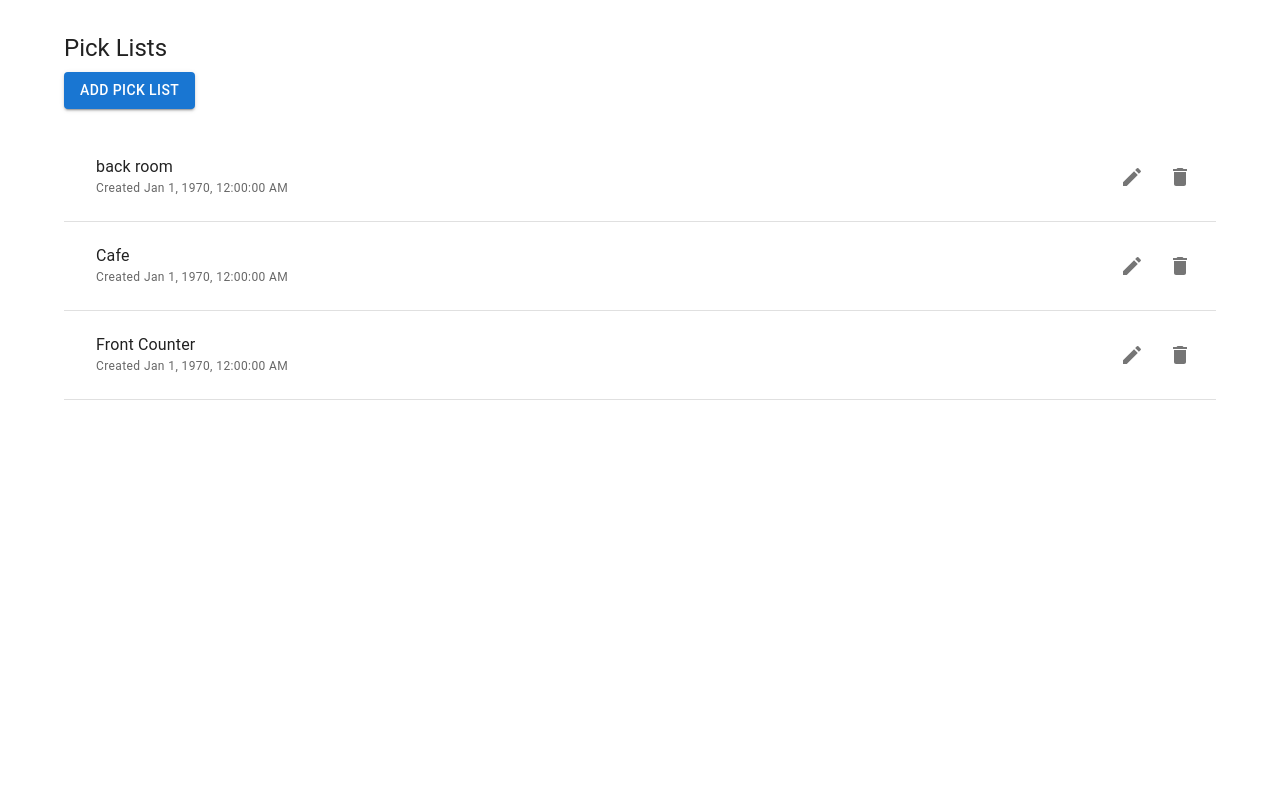
Test case: PickListsScreen sorting › opens the edit dialog and saves changes
Click the button named "edit" in the row of "back room": (1132, 177) [1112,157,1152,197]
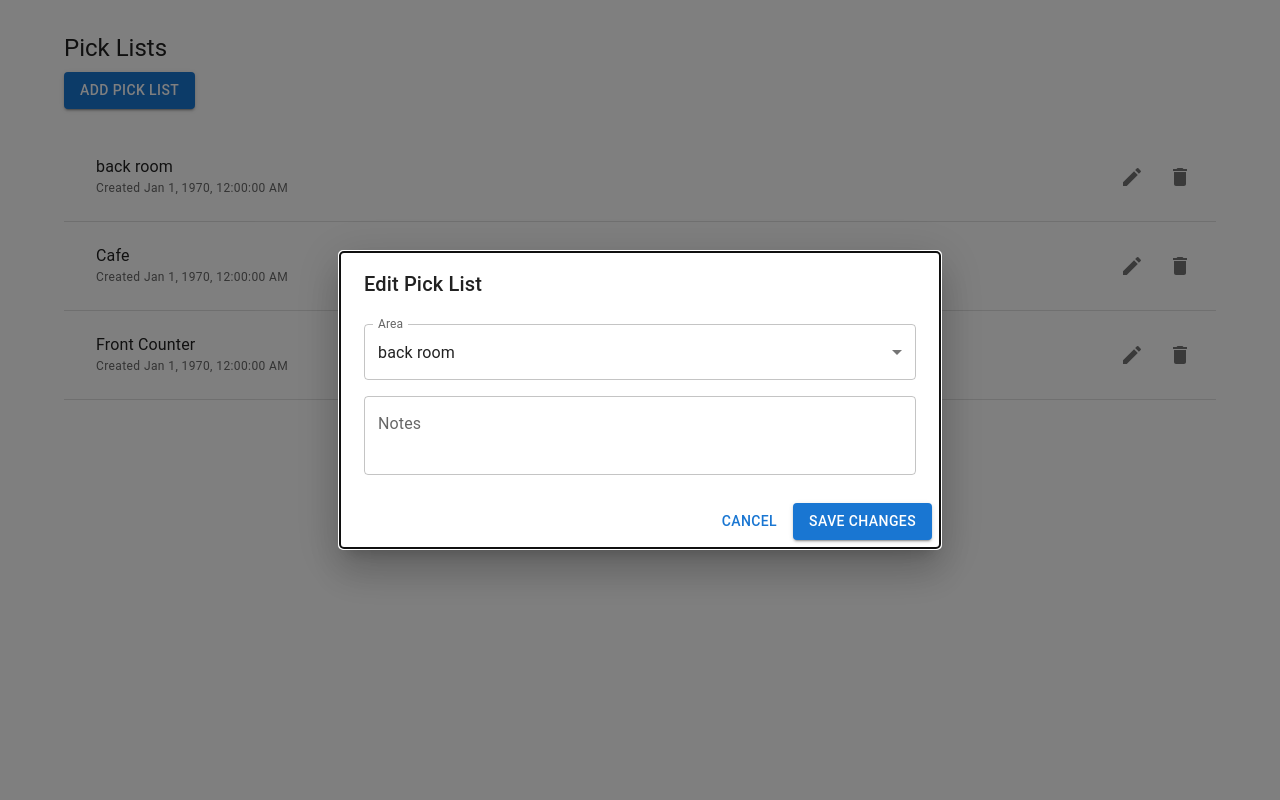
expect the dialog "Edit Pick List Area Notes Cancel Save Changes" is shown: met, box [340,252,940,548]
Select "Cafe" in the dropdown labelled "Area": (640, 352) [364,324,916,380]
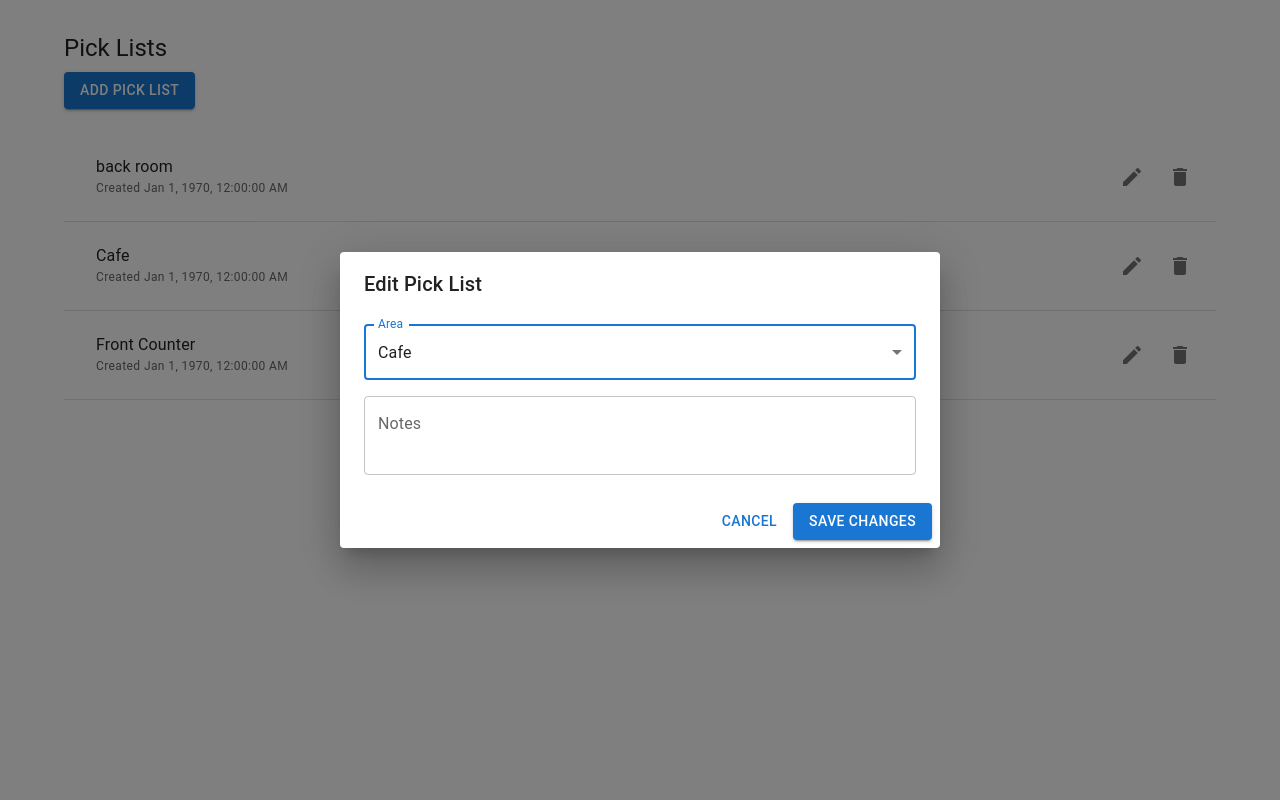
In the text box labelled "Notes": (640, 436) [378,413,902,459], type "Restock quickly"
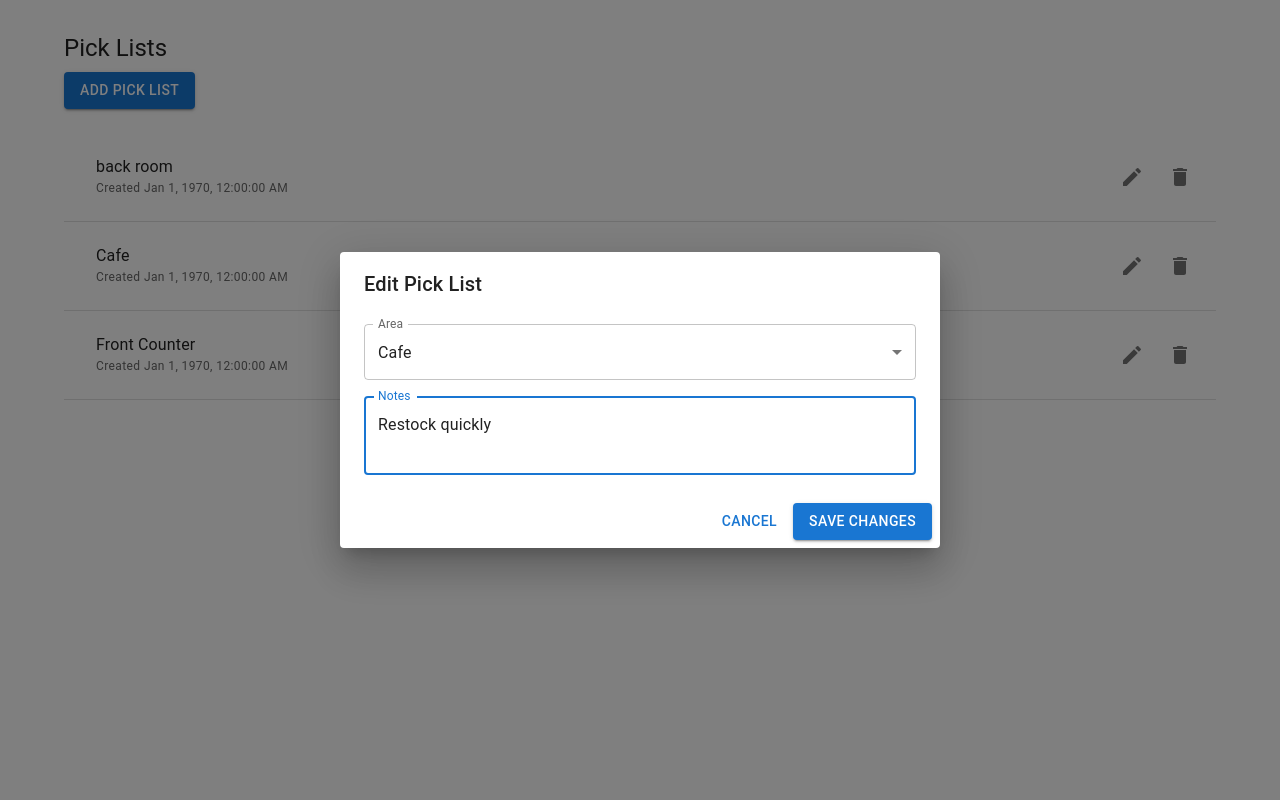
Click the button "Save Changes": (863, 522) [793,503,932,540]
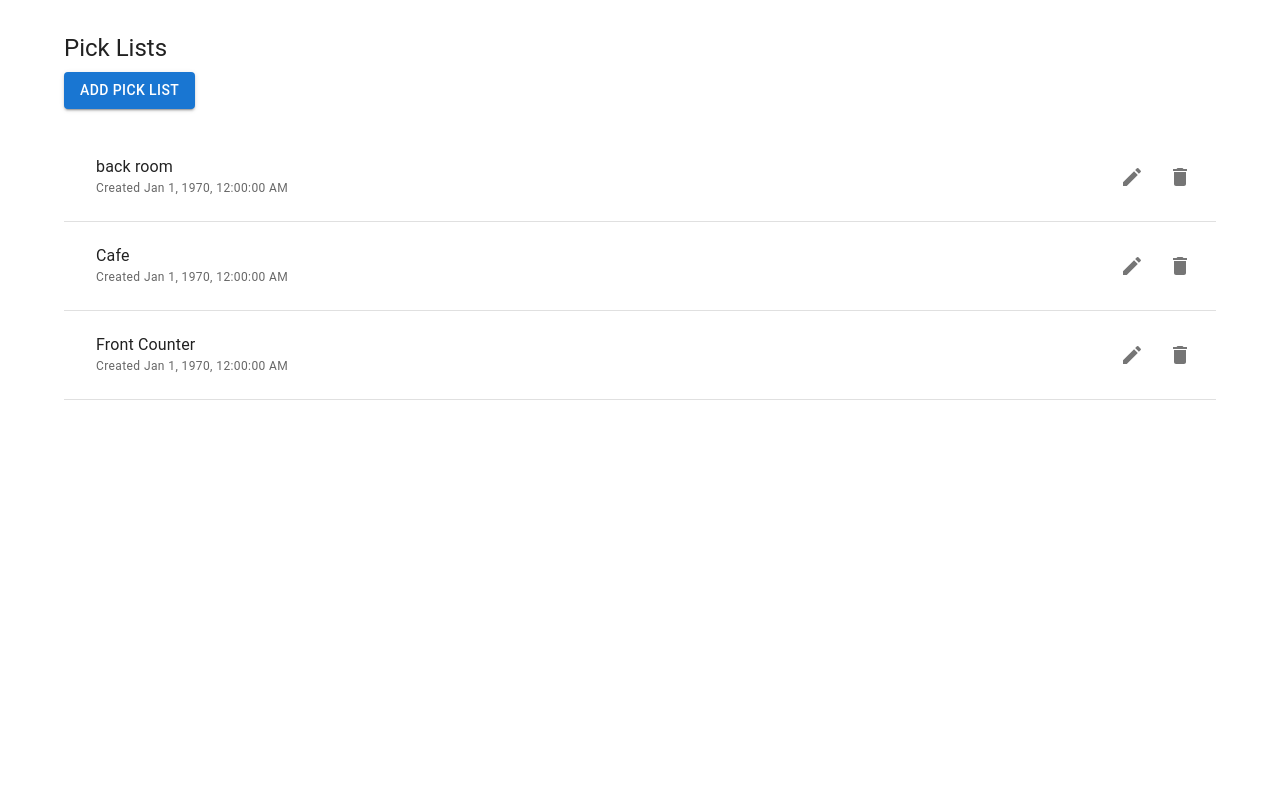
expect the heading "Edit Pick List" is gone: met
